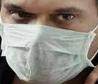with_mask: (1, 2, 98, 84)
